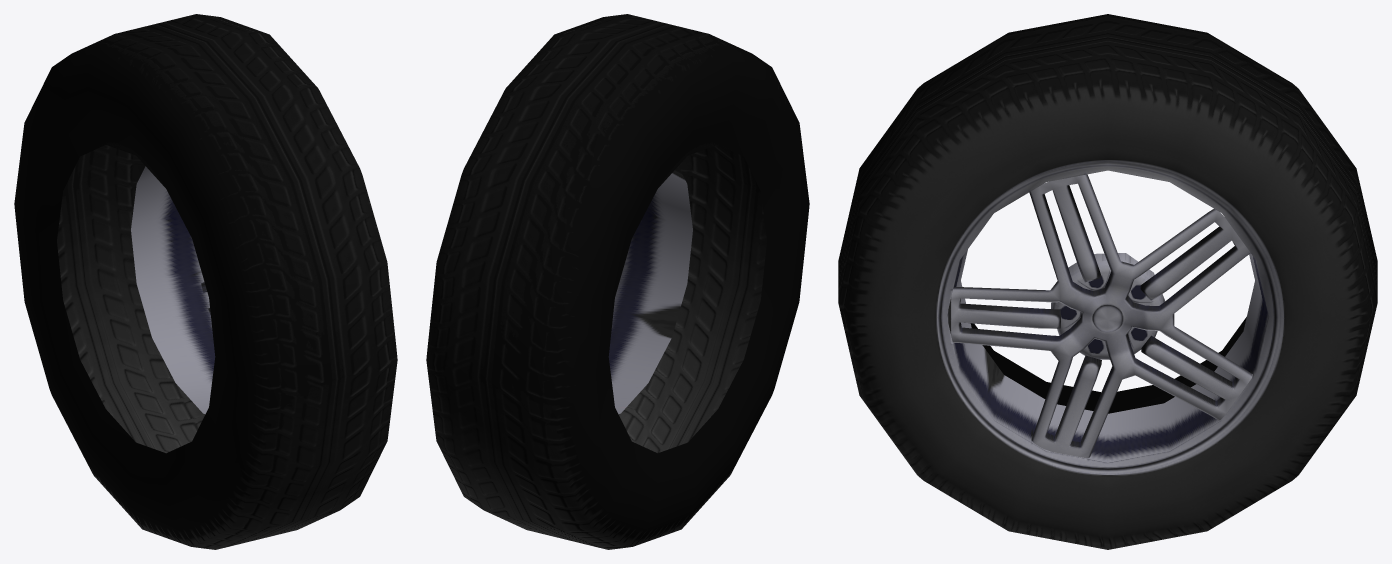
File: front_wheel_left.obj
The picture shows the model from 3 angles, left to right: view 1: azimuth 30°, elevation 25°; view 2: azimuth 150°, elevation 25°; view 3: azimuth 270°, elevation 25°; orthographic projection.
Parts seen in each view (by area): view 1: wheels_n_acc; view 2: wheels_n_acc; view 3: wheels_n_acc.
Part boxes in pixels (x1=…): wheels_n_acc: x1=14, y1=14, x2=397, y2=549; wheels_n_acc: x1=426, y1=14, x2=809, y2=549; wheels_n_acc: x1=838, y1=14, x2=1377, y2=549.
Size of the model in its own units: 3.51 by 10.12 by 10.12.
